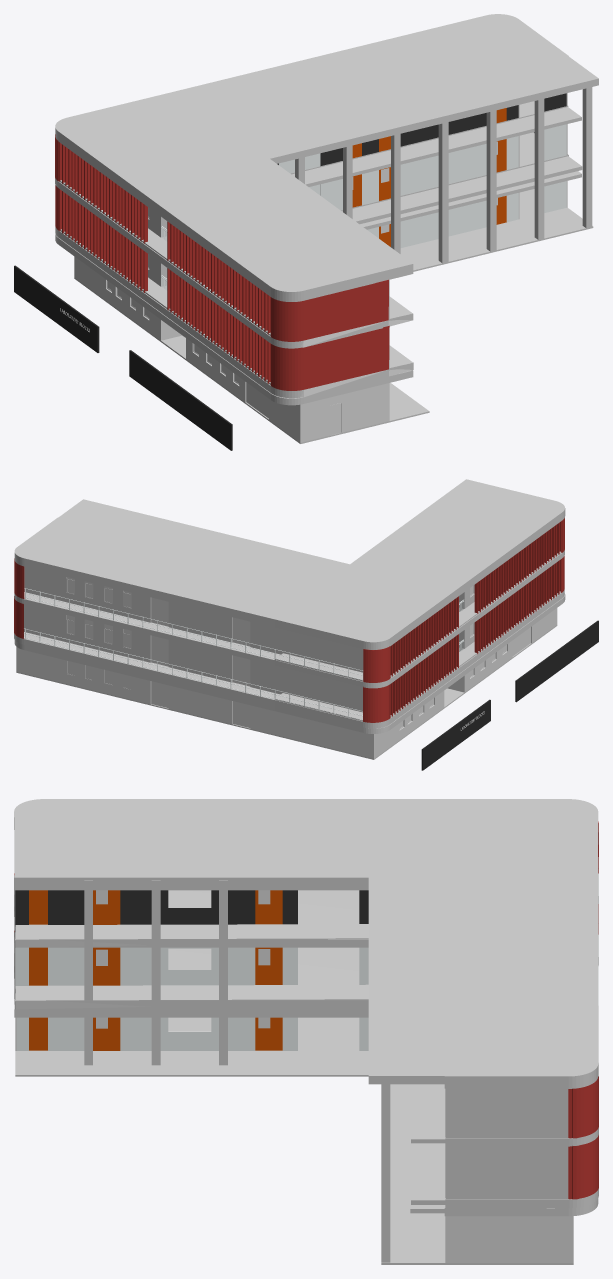
Rendered from Laboratory_Blocks.glb.
3 renders of one model, top to bottom at view 1: azimuth 30°, elevation 25°; view 2: azimuth 150°, elevation 25°; view 3: azimuth 270°, elevation 25°, orthographic. The views are drawn at different scales.
Parts seen in each view (by area): view 1: floor2.002, floor2.001, floor2.004, F1, Cube.005, pilla, Cube, floor1, Cube.080, F2, floor2.003, F3; view 2: floor2.002, F1, floor2.001, F2, floor2.004, F3, Cube.005, Cube, Cube.080, floor2.003, Cube.084, Cube.085 (+7 smaller); view 3: floor2.002, floor1, floor2.001, floor2.004, F2, F3, F1, pilla, floor2.003, Cube.023, Cube.065, Cube.076 (+6 smaller).
Boxes of the visible parts, x1,y1,x2,y2 form: floor2.002: [55, 14, 598, 301]; floor2.001: [55, 132, 582, 398]; floor2.004: [55, 101, 581, 348]; F1: [74, 181, 567, 442]; Cube.005: [167, 221, 270, 385]; pilla: [295, 87, 592, 263]; Cube: [59, 142, 147, 292]; floor1: [74, 189, 593, 443]; Cube.080: [14, 265, 232, 450]; F2: [148, 124, 567, 370]; floor2.003: [55, 171, 581, 405]; F3: [148, 93, 567, 320]; floor2.002: [14, 479, 565, 649]; F1: [16, 608, 557, 758]; floor2.001: [14, 556, 564, 728]; F2: [24, 604, 474, 712]; floor2.004: [14, 518, 564, 688]; F3: [24, 566, 474, 672]; Cube.005: [474, 521, 561, 654]; Cube: [389, 596, 458, 718]; Cube.080: [421, 620, 598, 770]; floor2.003: [14, 593, 565, 733]; Cube.084: [24, 588, 363, 681]; Cube.085: [24, 628, 362, 720]; floor2.002: [14, 799, 598, 1088]; floor1: [15, 1017, 573, 1264]; floor2.001: [14, 904, 598, 1208]; floor2.004: [14, 821, 598, 1146]; F2: [15, 947, 568, 1198]; F3: [15, 890, 568, 1137]; F1: [15, 1017, 573, 1262]; pilla: [84, 880, 390, 1262]; floor2.003: [14, 999, 598, 1216]; Cube.023: [93, 947, 120, 985]; Cube.065: [255, 947, 282, 984]; Cube.076: [255, 890, 282, 924].
Size of the model in its own units: 40.43 by 11.75 by 32.96.
